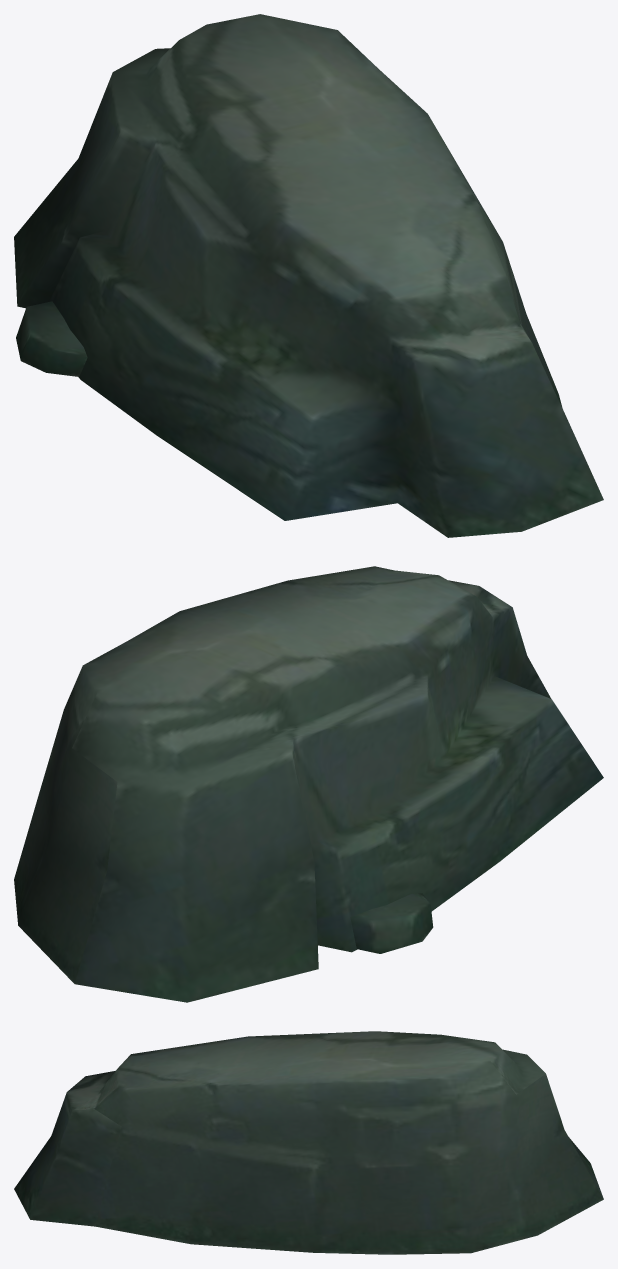
File: Moba_st02.FBX
3 views of the same model, one above another, from view 1: azimuth 30°, elevation 25°; view 2: azimuth 150°, elevation 25°; view 3: azimuth 270°, elevation 25° (orthographic). The views are drawn at different scales.
Visible parts, largest first — view 1: Moba_st02; view 2: Moba_st02; view 3: Moba_st02.
Boxes of the visible parts, bbox=[...] form: Moba_st02: bbox=[14, 14, 603, 537]; Moba_st02: bbox=[14, 566, 603, 1002]; Moba_st02: bbox=[14, 1031, 603, 1254].
Size of the model in its own units: 2.35 by 4.44 by 1.31.
